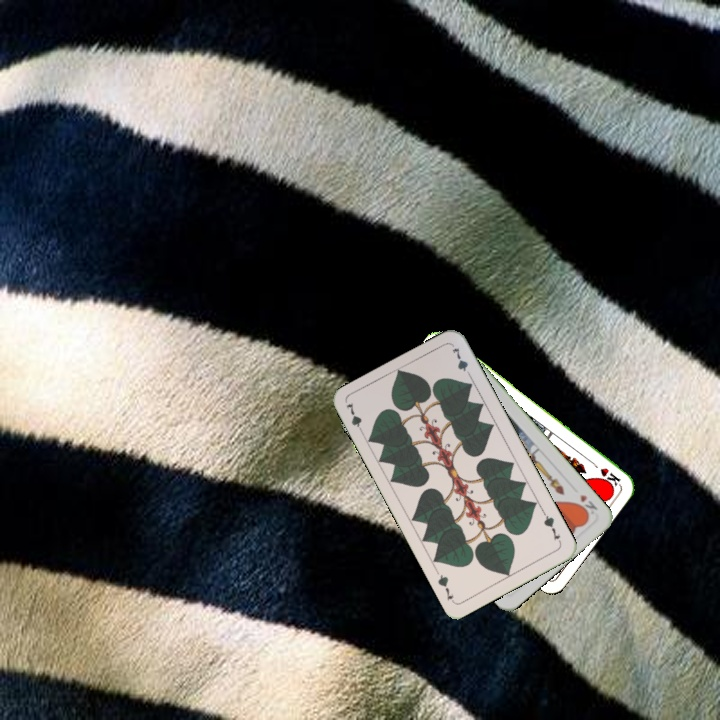G7: (342, 398, 367, 438), (539, 508, 564, 546)
HK: (587, 457, 623, 489), (572, 490, 600, 519)
